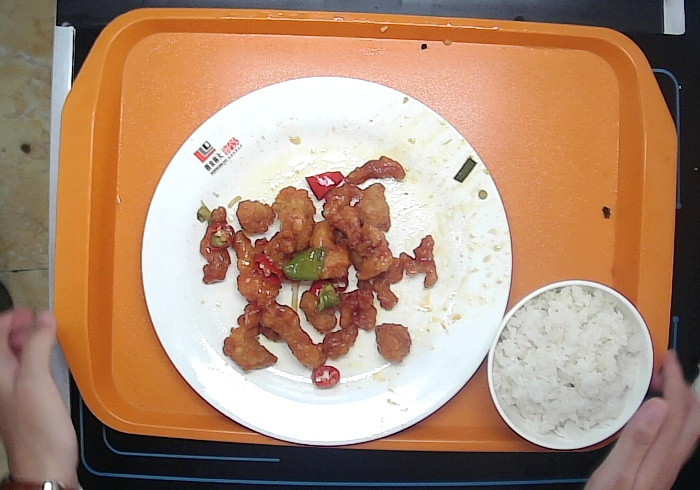ZNLD-Da_Yuan_Pan: (129, 70, 522, 454)
ZNLD-Fan_Wan: (480, 276, 662, 456)
